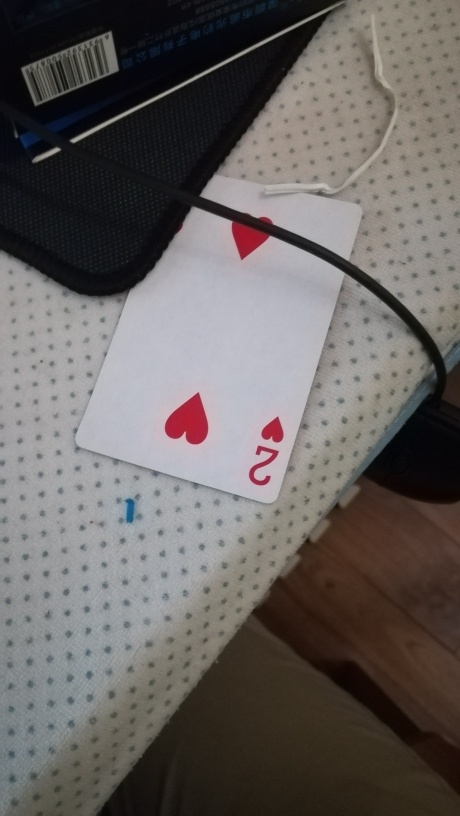hx 2: (67, 154, 364, 508)
